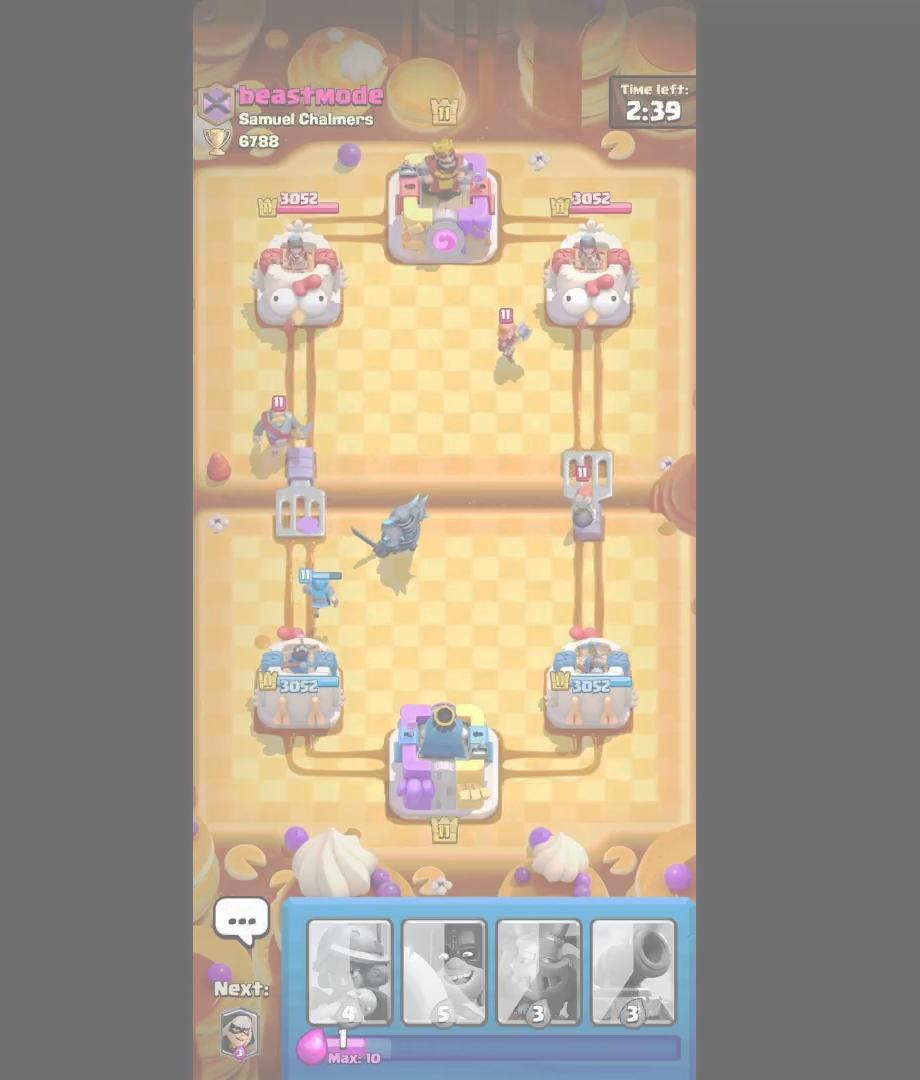Bomber: (561, 460, 602, 528)
Knight: (248, 392, 306, 459)
Valkyrie: (486, 301, 535, 369)
